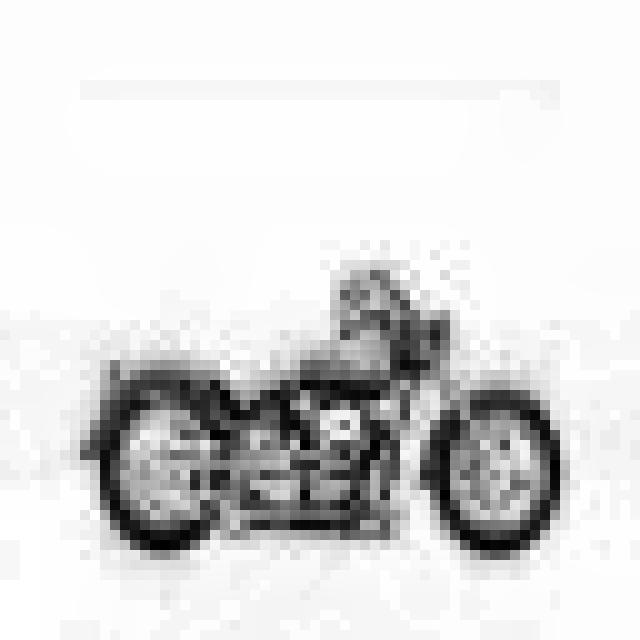mopeds: (76, 273, 575, 569)
